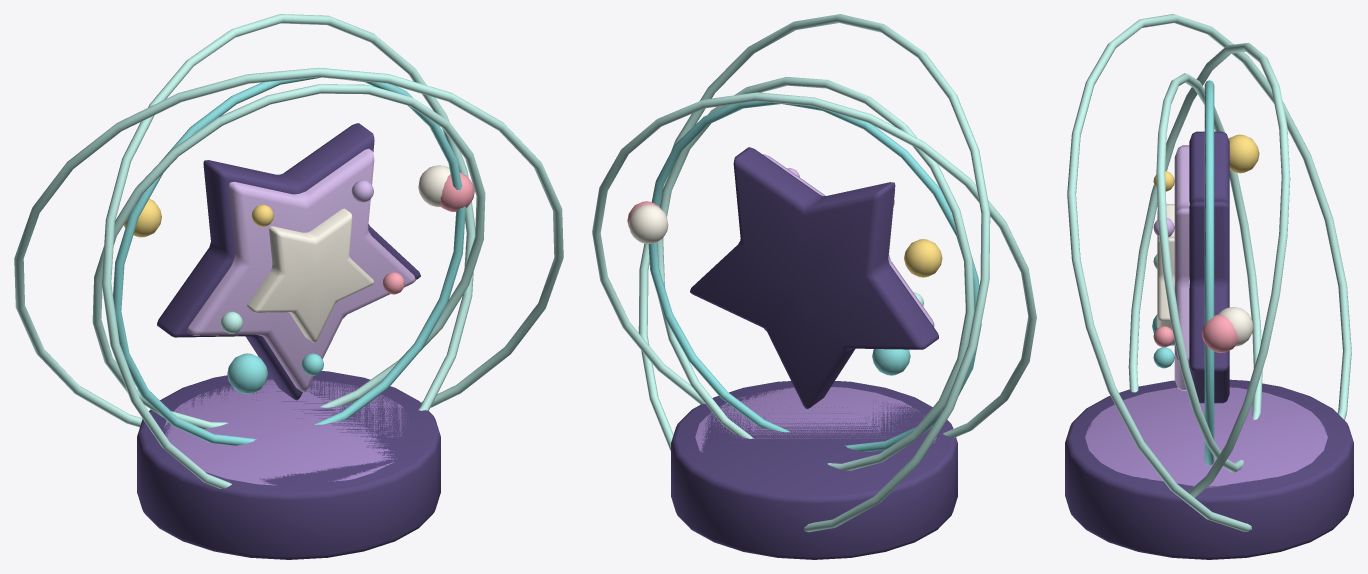
File: star_observatory.glb
The picture shows the model from 3 angles, left to right: view 1: azimuth 30°, elevation 25°; view 2: azimuth 150°, elevation 25°; view 3: azimuth 270°, elevation 25°; orthographic projection. The views are drawn at different scales.
Visible parts, largest first — view 1: PedestalInk, PaintedFace.003, Pedestal, Orbit_4.28, InkOutline.003, Orbit_3.78, PearlInset.003, Orbit_3.25, OrbitRing.001, Planet_2, MoonPearl.001, Planet_0 (+1 smaller); view 2: PedestalInk, InkOutline.003, Orbit_4.28, Orbit_3.78, Orbit_3.25, Pedestal, OrbitRing.001, MoonPearl.001, Planet_1, Planet_2, PaintedFace.003; view 3: PedestalInk, Pedestal, Orbit_4.28, InkOutline.003, Orbit_3.78, Orbit_3.25, OrbitRing.001, PaintedFace.003, PearlInset.003, Planet_0, Planet_1, MoonPearl.001.
Part boxes in pixels (box(x1,y1,x2,y2)): PedestalInk: box(137, 371, 440, 559); PaintedFace.003: box(187, 148, 415, 392); Pedestal: box(163, 379, 406, 485); Orbit_4.28: box(14, 67, 563, 427); InkOutline.003: box(157, 123, 420, 400); Orbit_3.78: box(101, 14, 475, 488); PearlInset.003: box(246, 208, 374, 342); Orbit_3.25: box(92, 84, 485, 428); OrbitRing.001: box(113, 68, 465, 445); Planet_2: box(227, 353, 267, 394); MoonPearl.001: box(418, 165, 450, 206); Planet_0: box(440, 172, 474, 211); PedestalInk: box(671, 381, 957, 559); InkOutline.003: box(690, 147, 938, 409); Orbit_4.28: box(638, 14, 990, 532); Orbit_3.78: box(592, 92, 1036, 437); Orbit_3.25: box(657, 76, 974, 470); Pedestal: box(695, 387, 936, 452); OrbitRing.001: box(648, 101, 981, 451); MoonPearl.001: box(629, 204, 668, 243); Planet_1: box(904, 239, 942, 277); Planet_2: box(872, 349, 910, 375); PaintedFace.003: box(763, 154, 934, 326); PedestalInk: box(1065, 379, 1353, 559); Pedestal: box(1085, 387, 1327, 487); Orbit_4.28: box(1067, 14, 1351, 531); InkOutline.003: box(1189, 131, 1229, 403); Orbit_3.78: box(1128, 42, 1290, 497); Orbit_3.25: box(1156, 73, 1262, 472); OrbitRing.001: box(1204, 80, 1214, 465); PaintedFace.003: box(1174, 145, 1189, 390); PearlInset.003: box(1157, 204, 1174, 329); Planet_0: box(1201, 314, 1237, 352); Planet_1: box(1228, 134, 1259, 173); MoonPearl.001: box(1218, 307, 1253, 346).
Size of the model in its own units: 8.05 by 8.17 by 4.76.
